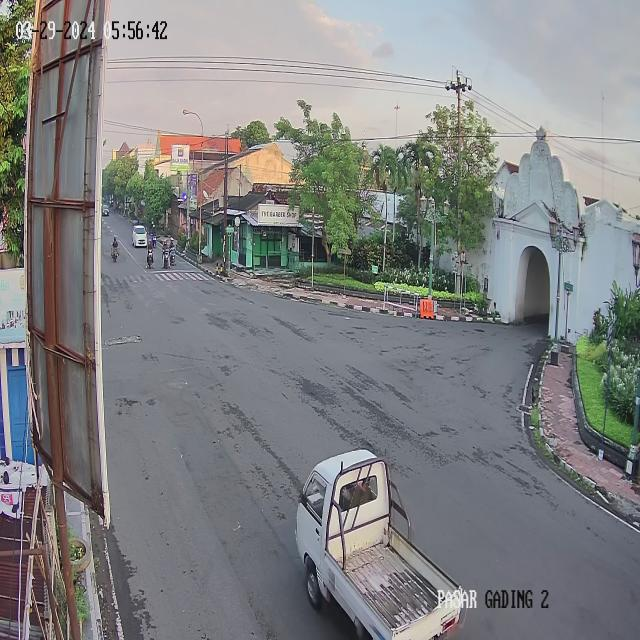car: (132, 225, 146, 248), (102, 204, 110, 217)
motorcycle: (168, 236, 176, 266), (111, 235, 119, 263), (147, 240, 154, 268), (162, 239, 168, 270), (151, 224, 157, 247)
truck: (289, 449, 461, 640)
